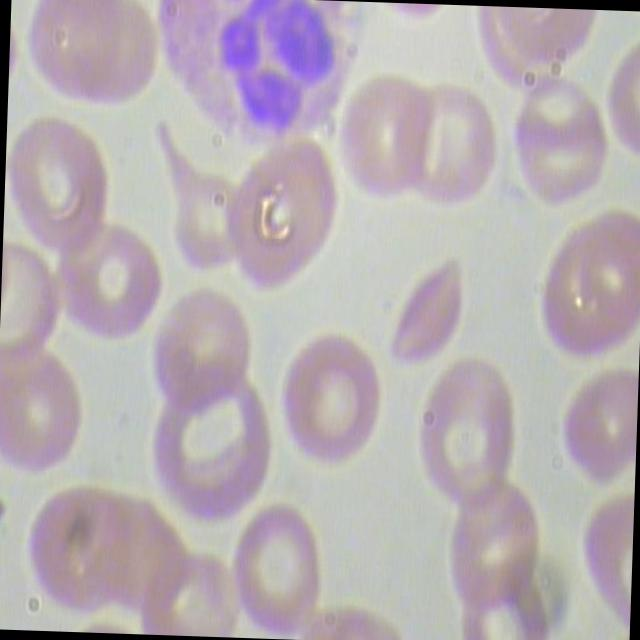WBC: (148, 0, 373, 156)
